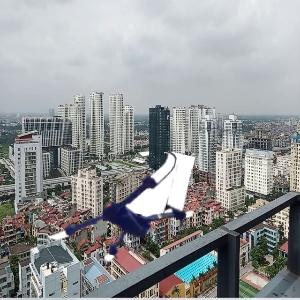drone: (50, 143, 194, 287)
